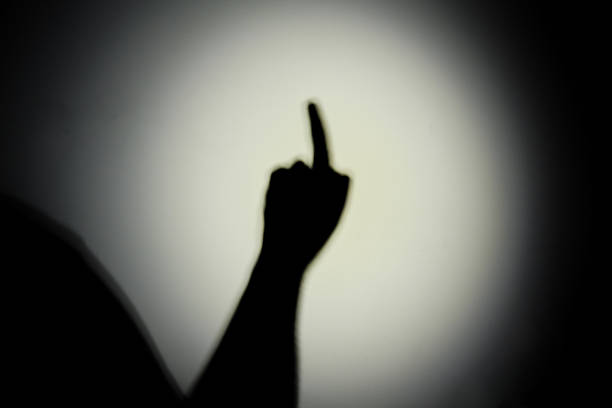insulting_gesture: (261, 97, 353, 271)
